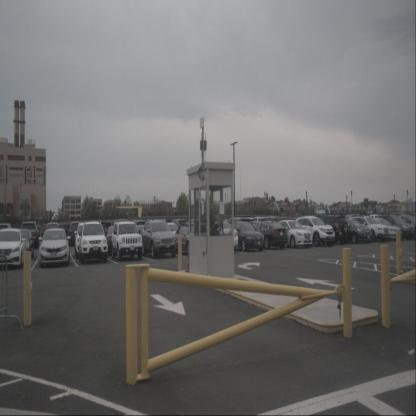movable_object-trafficcone: (185, 244, 191, 272)
vehicle-car: (140, 219, 177, 258), (292, 216, 336, 247), (226, 220, 265, 254), (78, 221, 108, 264), (111, 221, 143, 261), (38, 228, 70, 267), (270, 220, 314, 248), (171, 225, 210, 255), (249, 221, 288, 250), (0, 228, 27, 269), (332, 218, 372, 245), (351, 216, 390, 243), (379, 214, 415, 242), (317, 215, 349, 246), (208, 221, 238, 252), (364, 218, 402, 241), (74, 223, 97, 259), (12, 228, 35, 259), (103, 225, 124, 255), (19, 219, 39, 249), (168, 218, 189, 240), (68, 221, 84, 245), (45, 222, 61, 244)
